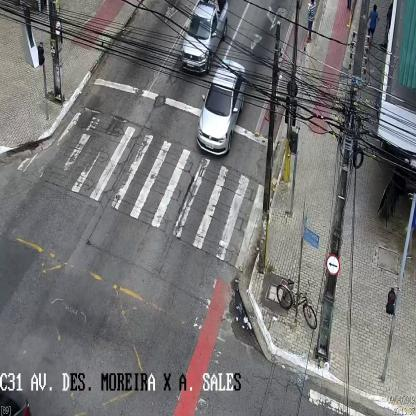bicycle: (276, 278, 317, 328)
car: (196, 60, 245, 156), (182, 0, 230, 70)
person: (307, 0, 318, 44), (368, 5, 379, 47)
